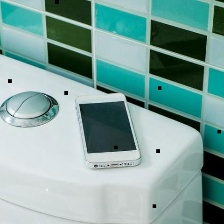phone: (70, 85, 145, 175)
